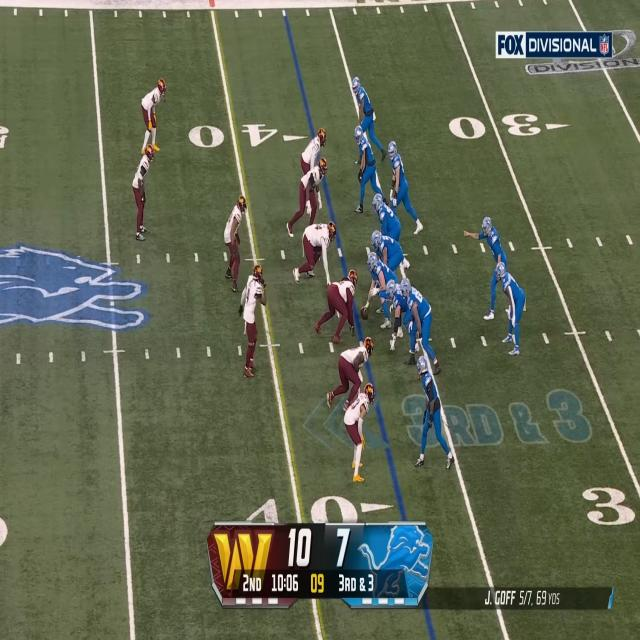Ball: (361, 308, 368, 320)
